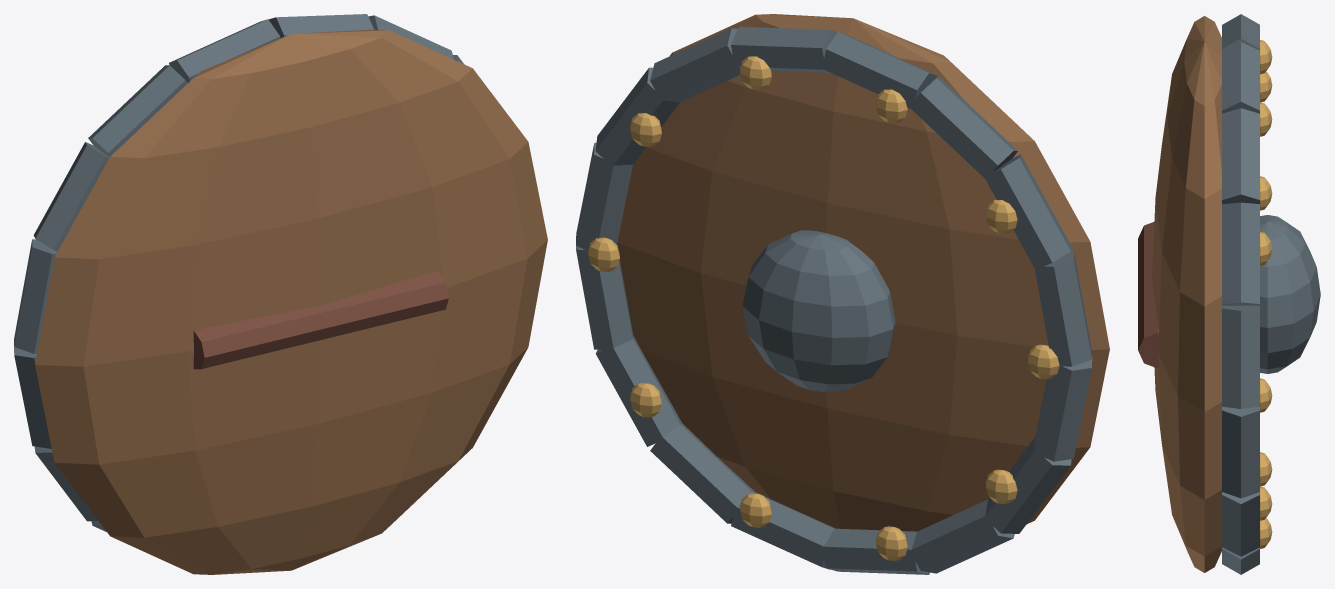
3 renders of one model, left to right at view 1: azimuth 30°, elevation 25°; view 2: azimuth 150°, elevation 25°; view 3: azimuth 270°, elevation 25°, orthographic. The views are drawn at different scales.
Visible parts, largest first — view 1: body; view 2: body; view 3: body.
Part boxes in pixels (left/top/right/bottom): body: left=14, top=14, right=547, bottom=574; body: left=576, top=14, right=1109, bottom=574; body: left=1138, top=14, right=1320, bottom=574.
Size of the model in its own units: 0.8447 by 0.8447 by 0.275.
